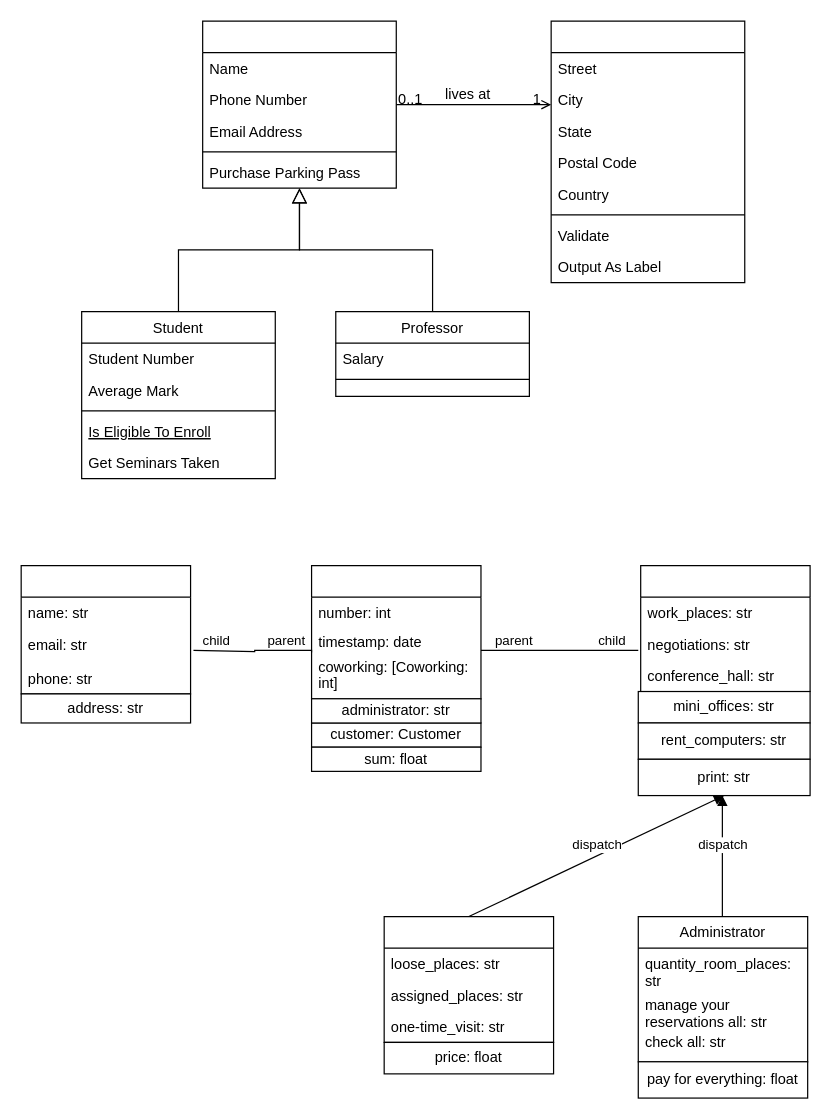
Some shapes in this 831 by 1119 pixel diagram are drawn without their labels. The shapes that lost their labels are listed below. From the top down, each one's box as (x1, y1, x2, y2) in pixels, then its label:
(201, 20, 396, 188): Person
(550, 20, 745, 283): Address
(20, 564, 191, 694): Customer
(310, 564, 481, 699): Order
(639, 564, 810, 692): Coworking
(383, 915, 554, 1042): Tarif
